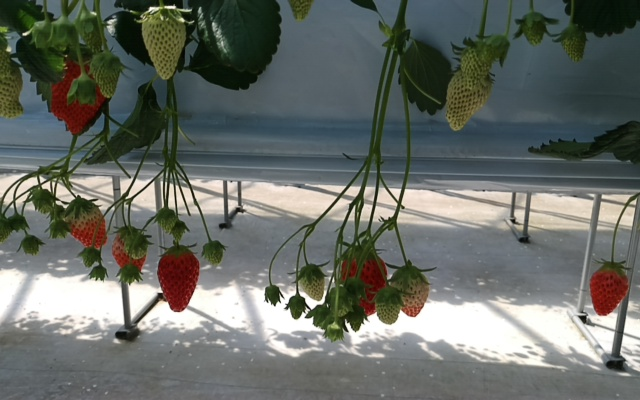GreenStrawberry: (139, 4, 187, 83), (444, 67, 493, 135), (388, 263, 433, 318), (1, 44, 29, 123), (458, 42, 494, 94), (73, 10, 107, 55), (90, 52, 121, 99), (373, 285, 404, 327), (558, 25, 590, 64), (518, 11, 549, 49), (298, 263, 326, 303), (326, 289, 355, 320), (202, 239, 226, 270), (124, 232, 149, 259), (155, 207, 176, 234), (169, 220, 188, 241)
MatureStrawberry: (36, 36, 106, 135), (338, 242, 390, 318), (155, 245, 200, 314), (588, 258, 629, 318), (64, 197, 107, 251), (108, 224, 147, 280)
